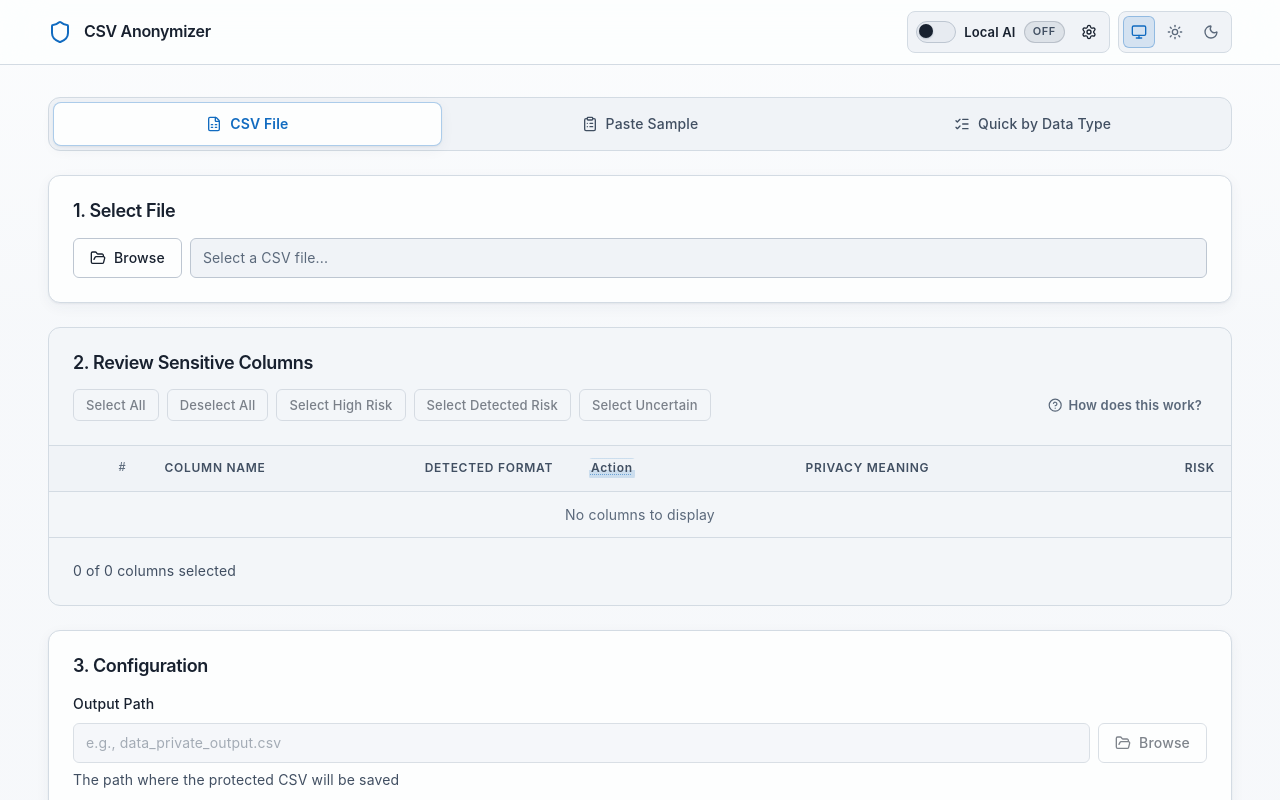
Test: App input mode tabs › generates quick values without requiring input or field detection
Click the tab "Quick by Data Type": {"x": 1033, "y": 124} [838,102,1227,146]
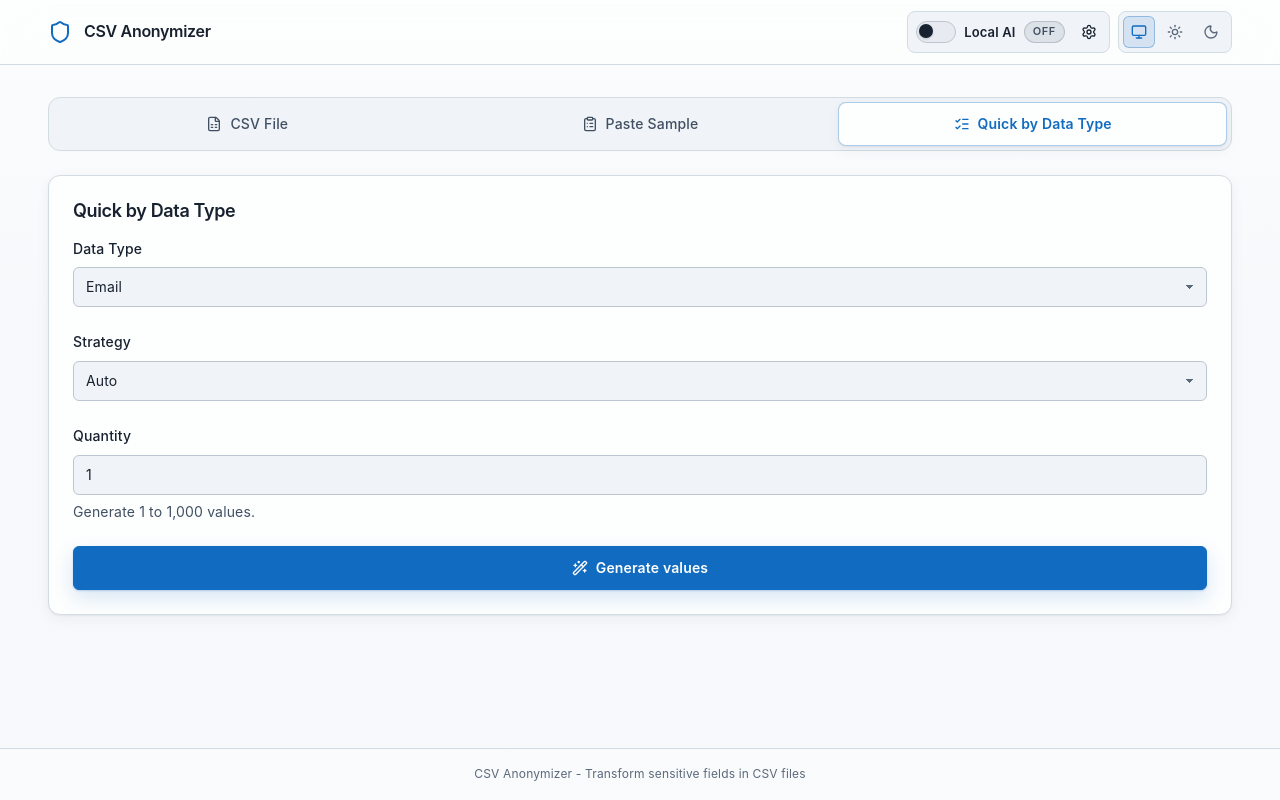
Click the button "Generate values": {"x": 640, "y": 568} [73,546,1207,590]
(page scrolled)
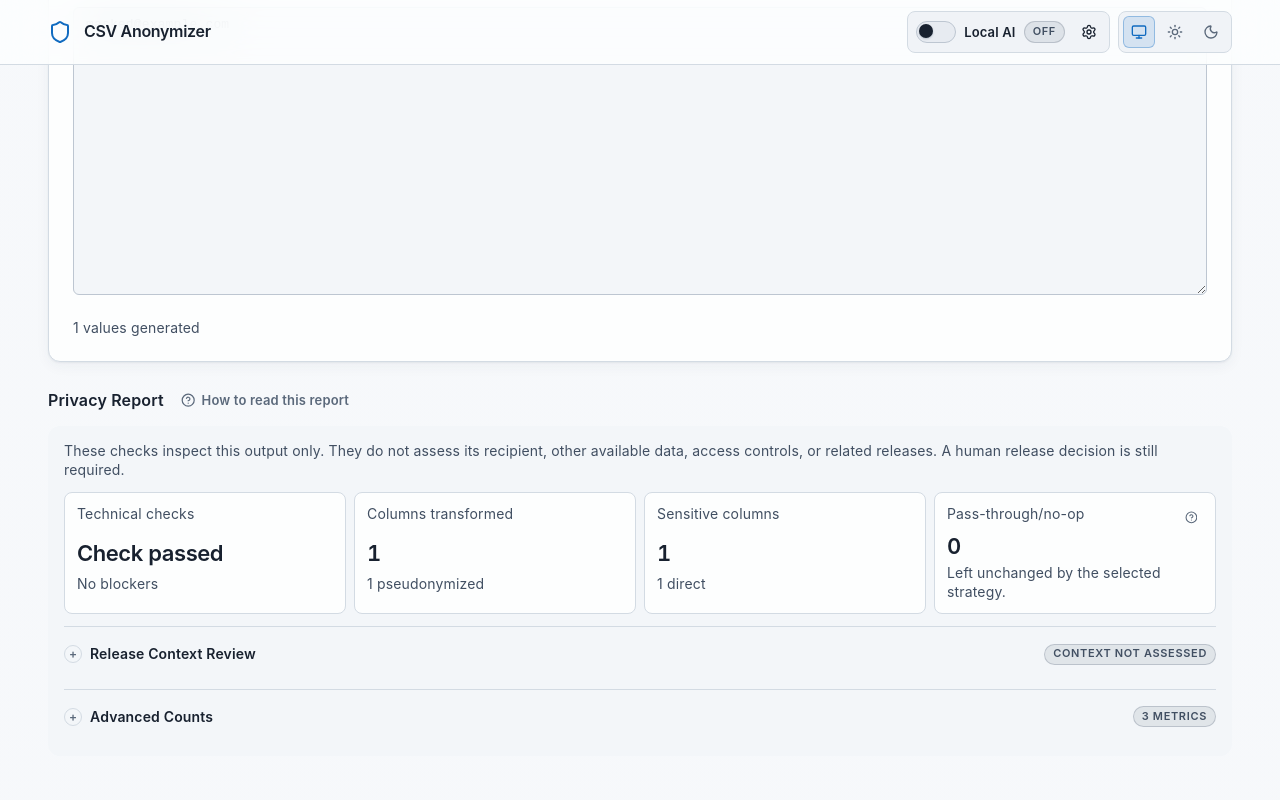
Now the text box named "generated values" holds "masked@example.com", box [73,6,1207,294]
Now the heading "Privacy Report" is shown, box [48,390,164,411]
